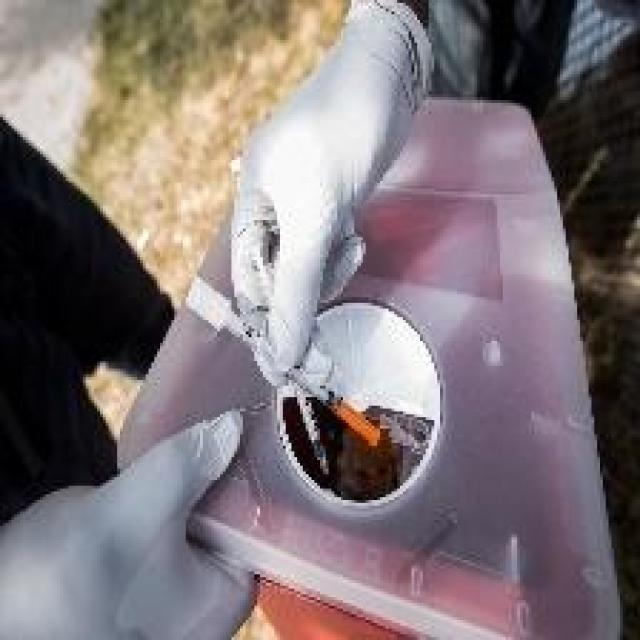syringe: (196, 277, 388, 506)
